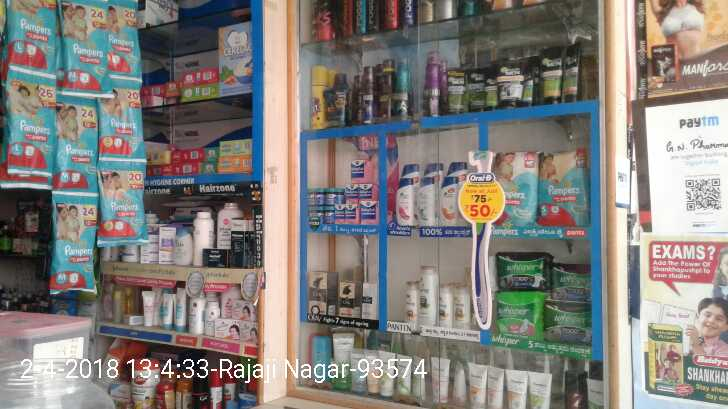vicks: (337, 149, 379, 225), (306, 185, 335, 223)
